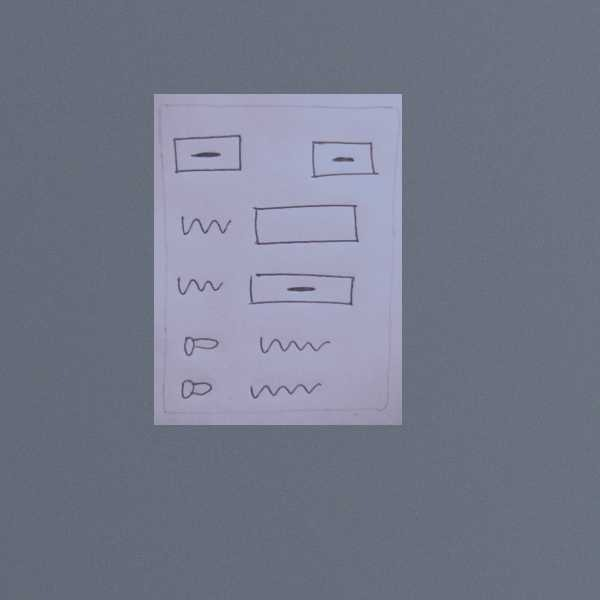button: (245, 270, 358, 310), (169, 132, 252, 181), (307, 137, 382, 183)
switch: (178, 331, 222, 361), (178, 374, 216, 402)
text: (253, 330, 334, 358), (244, 378, 325, 403), (177, 210, 234, 244), (174, 271, 228, 299)
text_input: (249, 201, 365, 249)
